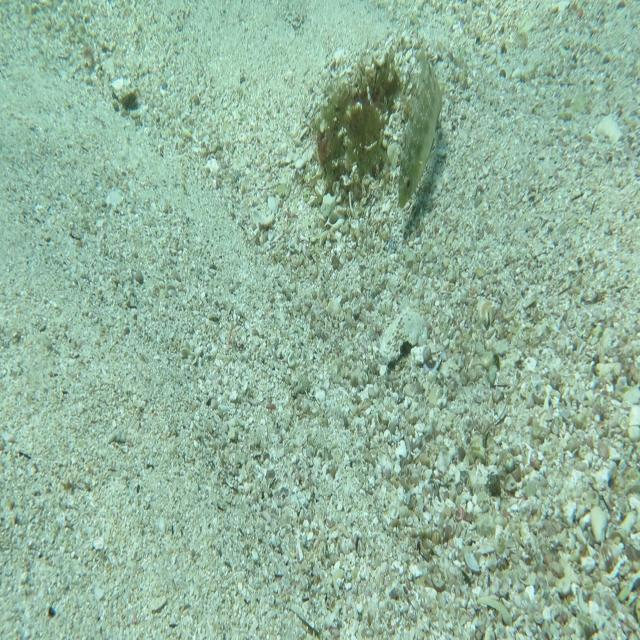SA: (395, 44, 444, 215)
nest: (311, 46, 408, 215)
vegetation: (120, 87, 139, 120)
